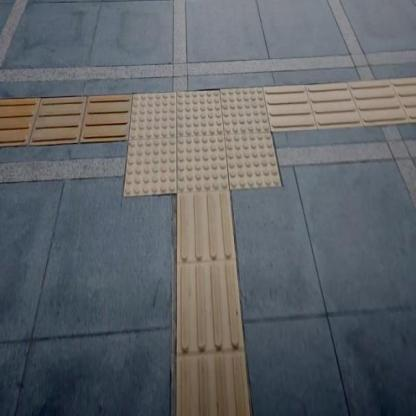podotacti: (91, 51, 336, 259), (178, 197, 246, 415), (272, 77, 415, 130), (0, 94, 129, 140)
